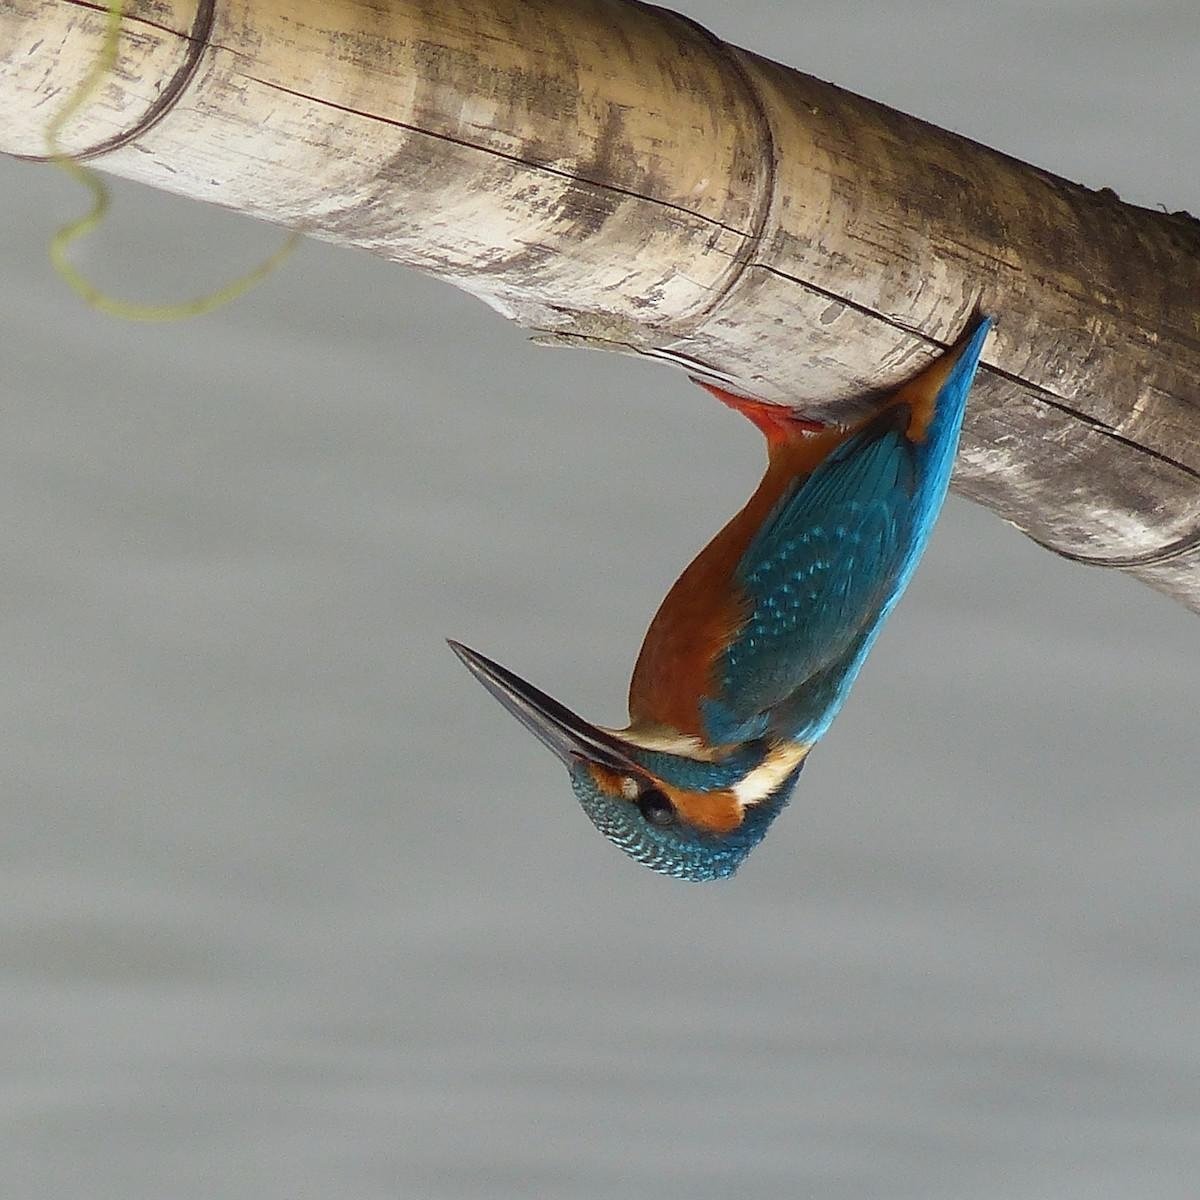kingfisher: (434, 295, 1013, 897)
